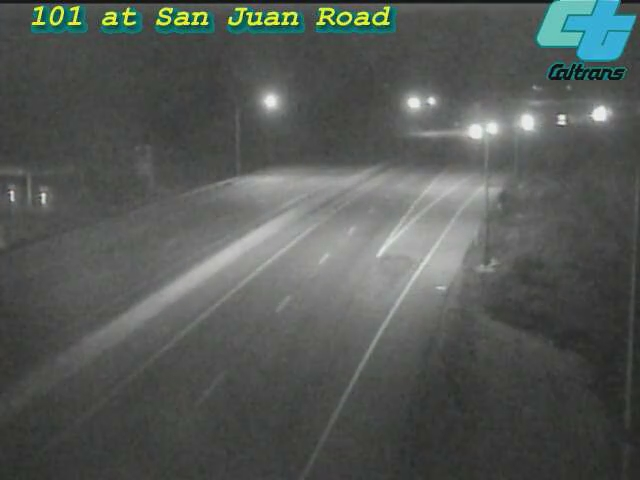vehicle: (535, 96, 585, 146), (447, 106, 497, 156), (501, 97, 551, 147), (467, 104, 517, 154), (574, 89, 624, 139)
